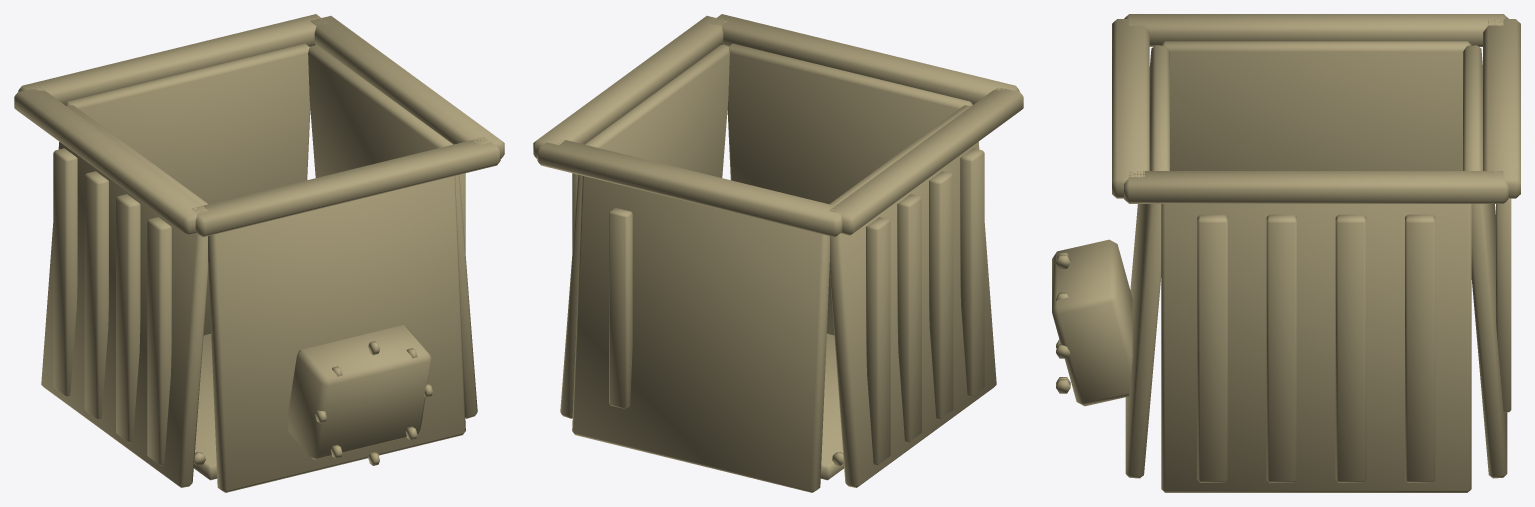
File: resource_bay_tub.glb
3 views of the same model, side by side, from view 1: azimuth 30°, elevation 25°; view 2: azimuth 150°, elevation 25°; view 3: azimuth 270°, elevation 25° (orthographic). The views are drawn at different scales.
Visible parts, largest first — view 1: resource_bay_tub; view 2: resource_bay_tub; view 3: resource_bay_tub.
Part boxes in pixels (left/top/right/bottom): resource_bay_tub: left=14, top=14, right=504, bottom=492; resource_bay_tub: left=533, top=14, right=1023, bottom=492; resource_bay_tub: left=1052, top=14, right=1520, bottom=492.
Bounding box in the file's own units: 1.21 × 1.03 × 1.39.
